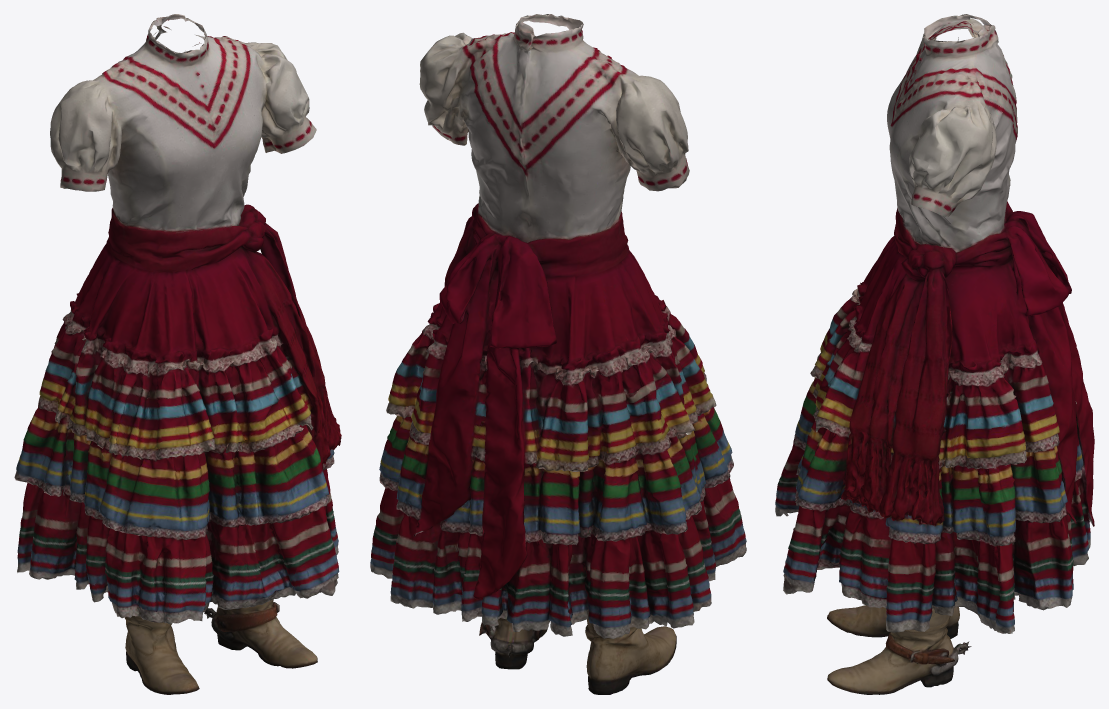
Rendered from 2009_0224_01_and_04_and_05_and_06_dress_boots-100k-2048_std_draco.glb.
3 renders of one model, left to right at view 1: azimuth 30°, elevation 25°; view 2: azimuth 150°, elevation 25°; view 3: azimuth 270°, elevation 25°, orthographic. The views are drawn at different scales.
Bounding box in the file's own units: 0.6689 × 1.37 × 0.6273.
1 material, 1 textured.
